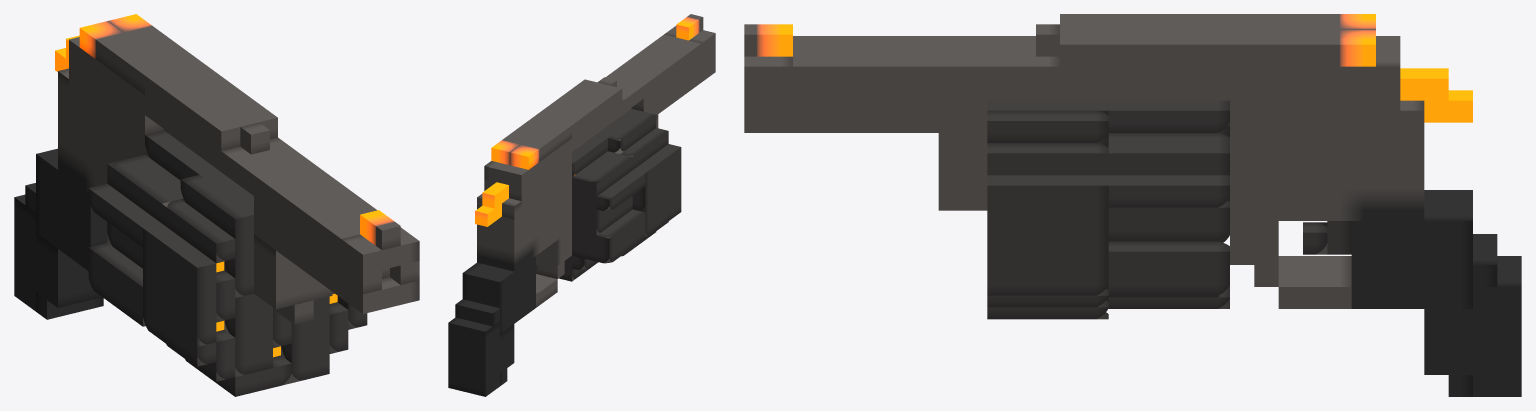
Rendered from Machine Revolver.dae.
3 renders of one model, left to right at view 1: azimuth 30°, elevation 25°; view 2: azimuth 150°, elevation 25°; view 3: azimuth 270°, elevation 25°, orthographic. The views are drawn at different scales.
Parts seen in each view (by area): view 1: MachineRevolver; view 2: MachineRevolver; view 3: MachineRevolver.
Part boxes in pixels (left/top/right/bottom): MachineRevolver: left=14, top=14, right=419, bottom=396; MachineRevolver: left=448, top=14, right=715, bottom=396; MachineRevolver: left=744, top=14, right=1521, bottom=396.
Size of the model in its own units: 9 by 16 by 32.
Materials: 1 (1 with a texture image).
